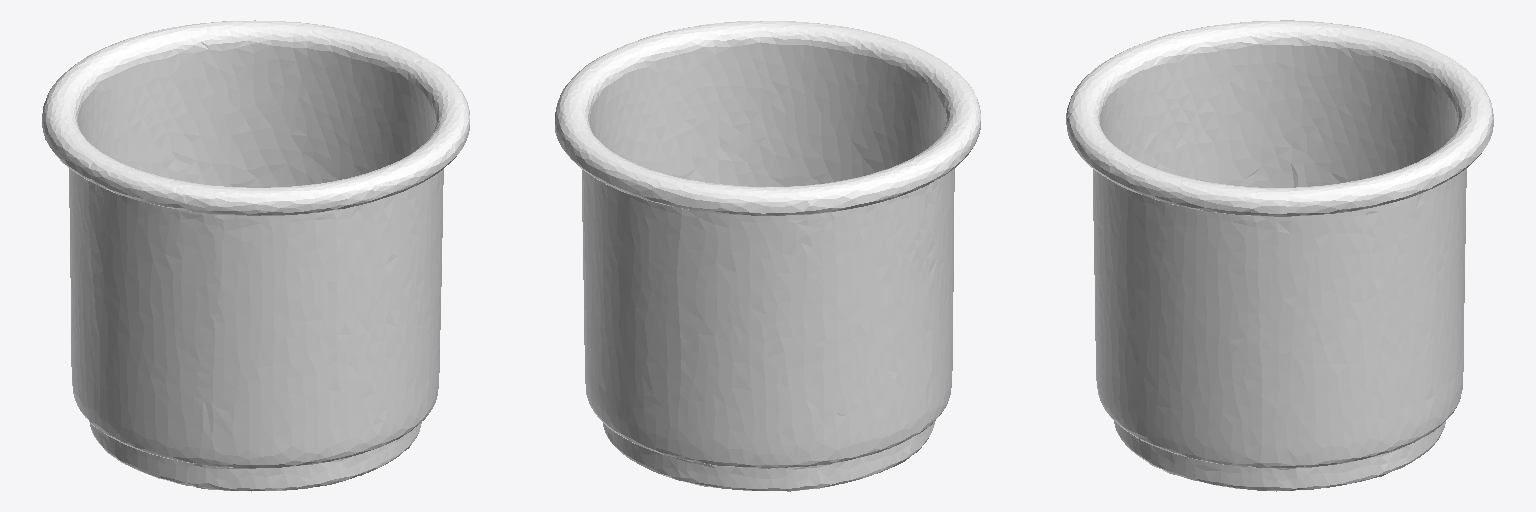
robot.urdf — 026_sponge:
<robot name="026_sponge">
	<link name="_name">
		<visual>
			<origin xyz="0.15842356573766914 -0.11520562220217975 -0.09372525080597041" rpy="0 0 0" />
			<geometry>
				<mesh filename="026_sponge/google_16k/textured.obj" scale="10 10 10" />
			</geometry>
			<material name="texture">
				<color rgba="1.0 1.0 1.0 1.0" />
			</material>
		</visual>
		<collision>
			<geometry>
				<mesh filename="026_sponge/google_16k/textured_vhacd.obj" scale="10 10 10" />
			</geometry>
		<origin xyz="0.15842356573766914 -0.11520562220217975 -0.09372525080597041" rpy="0 0 0" /></collision>
		<inertial>
			<mass value="1.0" />
			<inertia ixx="1.0" ixy="0.0" ixz="0.0" iyy="1.0" iyz="0.0" izz="1.0" />
		</inertial>
	</link>
</robot>

--- What the picture shows (computed from the rendered views, not written in the file) ---
Views: 3 orthographic renders of the robot side by side, from view 1: azimuth 30°, elevation 25°; view 2: azimuth 150°, elevation 25°; view 3: azimuth 270°, elevation 25°.
Robot: 026_sponge — 1 links, 0 joints (none); root link _name; default pose: every joint at zero.
Visible links, largest first — view 1: _name; view 2: _name; view 3: _name.
Link boxes in pixels (bbox=[...]): _name: bbox=[42, 20, 469, 491]; _name: bbox=[555, 20, 980, 491]; _name: bbox=[1066, 20, 1493, 491].
Size in the robot's own frame: 0.915 by 0.9162 by 0.7506 metres.
Meshes: 1 distinct files referenced, 1 mesh visuals loaded (1 OBJ).